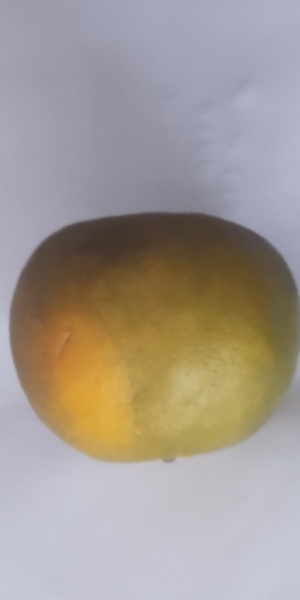BAD: (11, 209, 300, 471)
